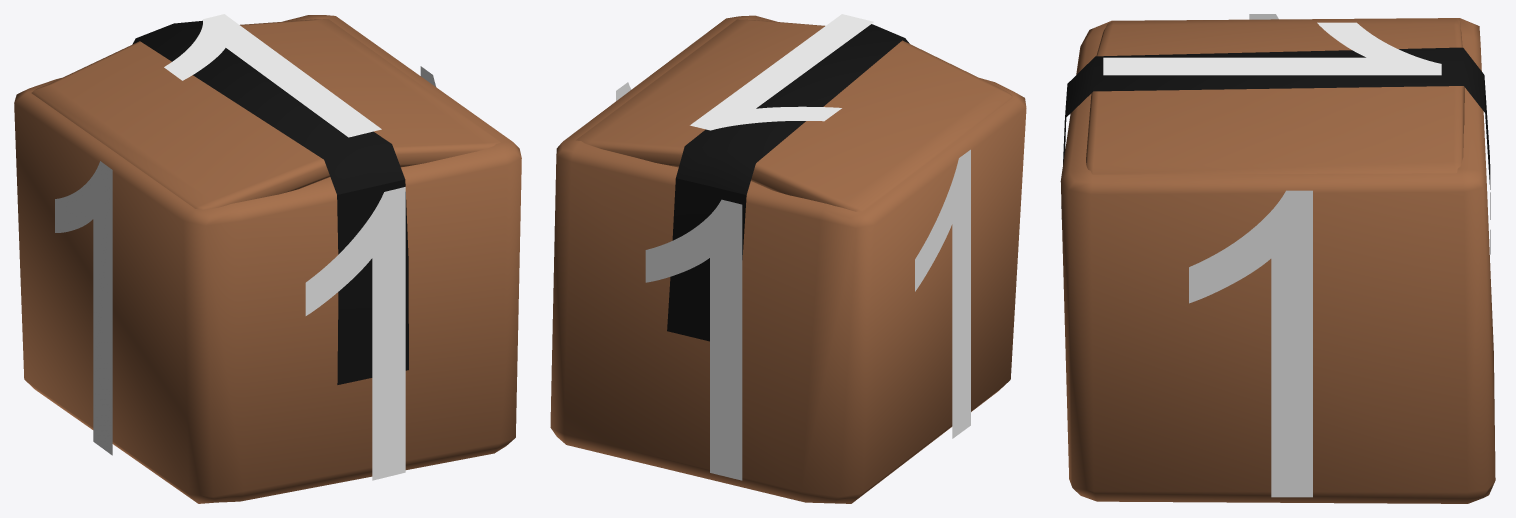
Rendered from Parcel_v1_1.FBX.
The picture shows the model from 3 angles, left to right: view 1: azimuth 30°, elevation 25°; view 2: azimuth 150°, elevation 25°; view 3: azimuth 270°, elevation 25°; orthographic projection. The views are drawn at different scales.
Parts seen in each view (by area): view 1: Box029; view 2: Box029; view 3: Box029.
Boxes of the visible parts, box(x1,y1,x2,y2) form: Box029: box(14, 14, 521, 503); Box029: box(550, 14, 1026, 503); Box029: box(1060, 14, 1495, 503).
Size of the model in its own units: 34.51 by 34.09 by 36.84.
